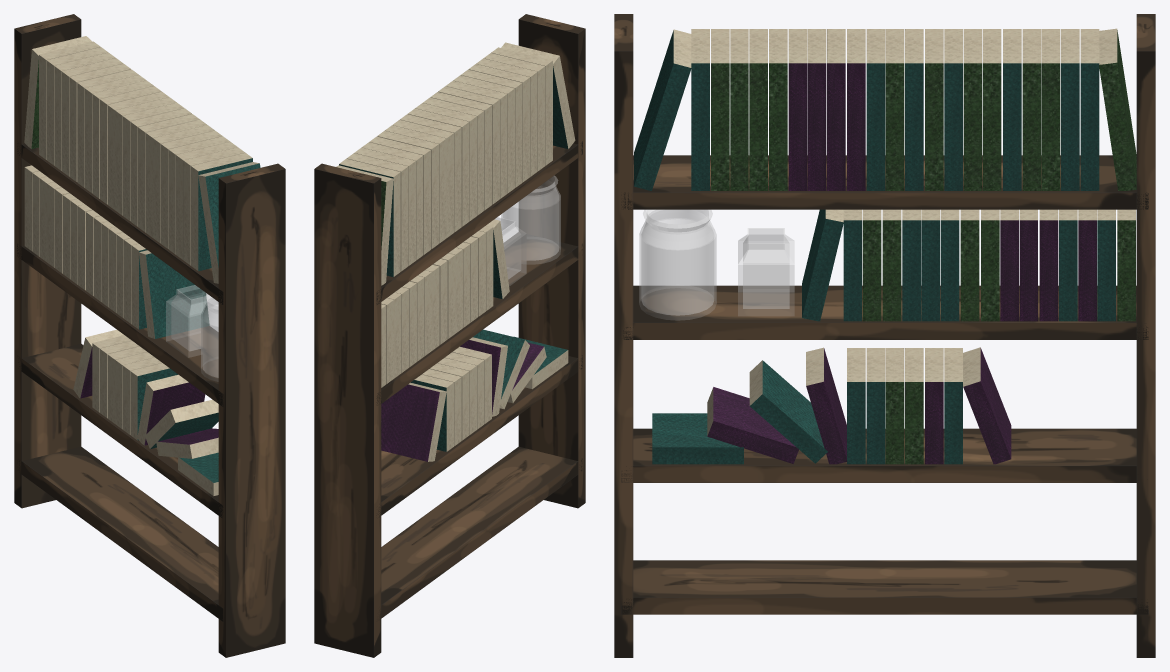
File: shelf2.glb
3 views of the same model, side by side, from view 1: azimuth 30°, elevation 25°; view 2: azimuth 150°, elevation 25°; view 3: azimuth 270°, elevation 25° (orthographic). The views are drawn at different scales.
Visible parts, largest first — view 1: group6, group4, group5; view 2: group6, group4, group5; view 3: group4, group6, group5.
Boxes of the visible parts, box(x1,y1,x2,y2) form: group6: box(14, 14, 285, 657); group4: box(24, 36, 260, 495); group5: box(166, 285, 218, 381); group6: box(314, 14, 585, 657); group4: box(336, 42, 575, 461); group5: box(495, 176, 560, 285); group4: box(634, 28, 1136, 464); group6: box(614, 14, 1155, 657); group5: box(639, 210, 794, 320).
Bounding box in the file's own units: 13.31 × 101 × 81.89.
Materials: 2 (1 with a texture image).
